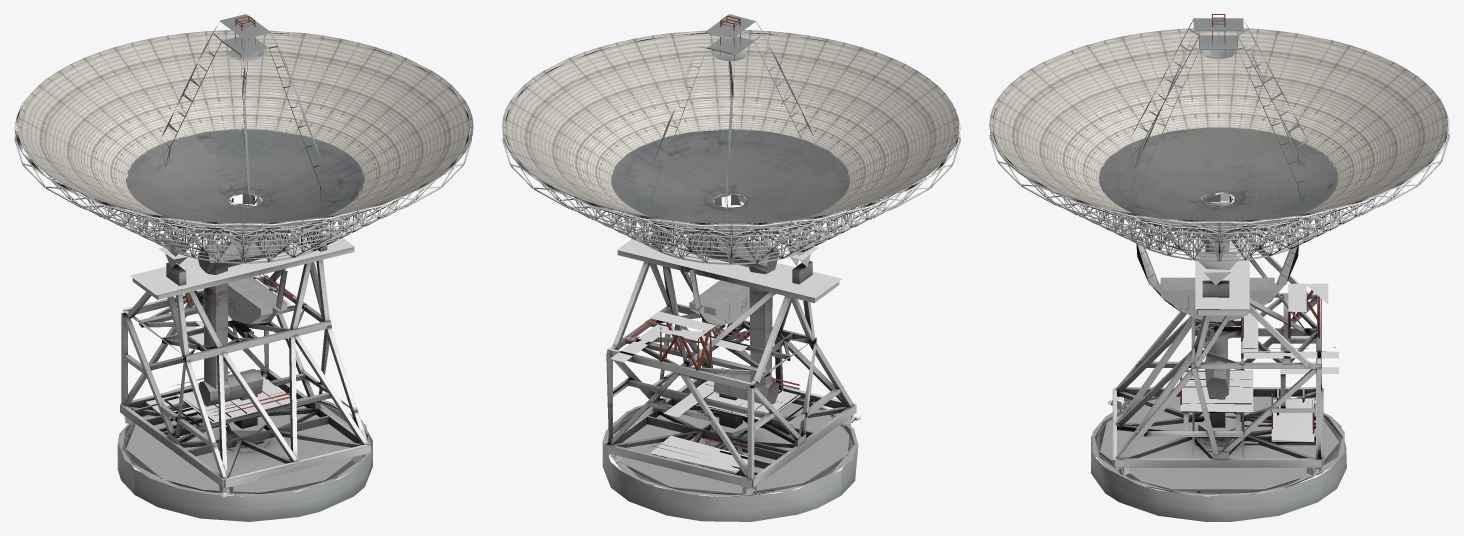
3 renders of one model, left to right at view 1: azimuth 30°, elevation 25°; view 2: azimuth 150°, elevation 25°; view 3: azimuth 270°, elevation 25°, orthographic.
Parts seen in each view (by area): view 1: dish, New Base, dish_center, base, truss_dish, quad, EW Symmetric.001; view 2: dish, New Base, dish_center, base, truss_dish, quad, EW Symmetric.001; view 3: dish, New Base, dish_center, base, truss_dish, EW Symmetric.001, quad.
Boxes of the visible parts, bbox=[...] form: dish: bbox=[17, 30, 473, 230]; New Base: bbox=[120, 228, 371, 498]; dish_center: bbox=[126, 129, 364, 230]; base: bbox=[117, 392, 372, 521]; truss_dish: bbox=[14, 33, 471, 263]; quad: bbox=[160, 14, 328, 221]; EW Symmetric.001: bbox=[158, 219, 327, 325]; dish: bbox=[502, 30, 958, 230]; New Base: bbox=[605, 229, 861, 494]; dish_center: bbox=[611, 129, 849, 230]; base: bbox=[602, 392, 858, 521]; truss_dish: bbox=[502, 32, 960, 264]; quad: bbox=[646, 14, 816, 222]; EW Symmetric.001: bbox=[648, 220, 818, 326]; dish: bbox=[989, 28, 1447, 228]; New Base: bbox=[1108, 229, 1338, 476]; dish_center: bbox=[1099, 127, 1338, 227]; base: bbox=[1091, 396, 1346, 521]; truss_dish: bbox=[989, 54, 1449, 261]; EW Symmetric.001: bbox=[1136, 193, 1298, 322]; quad: bbox=[1126, 14, 1310, 203].
Bounding box in the file's own units: 34.02 × 36.69 × 33.97.
7 materials, 5 textured.
